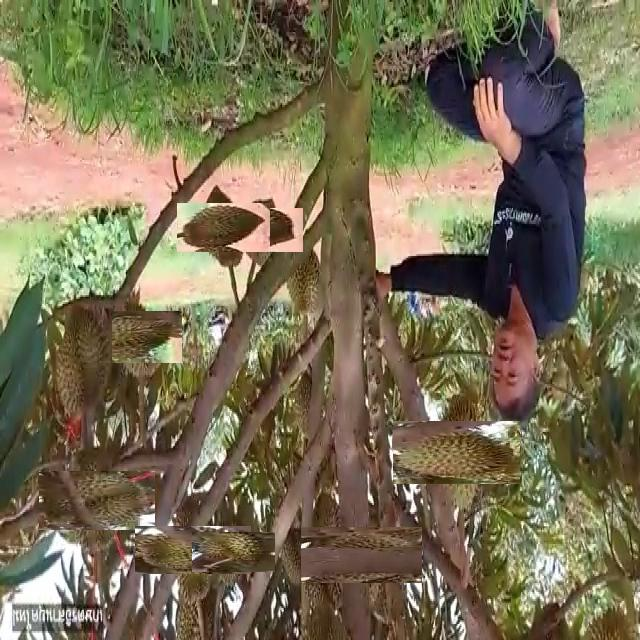durian: (409, 404, 504, 500), (317, 511, 406, 600), (52, 457, 140, 545), (56, 291, 112, 421), (152, 508, 235, 591), (188, 191, 259, 263), (104, 302, 174, 372), (282, 221, 328, 316), (233, 199, 295, 261), (203, 521, 265, 583), (292, 371, 323, 442)
